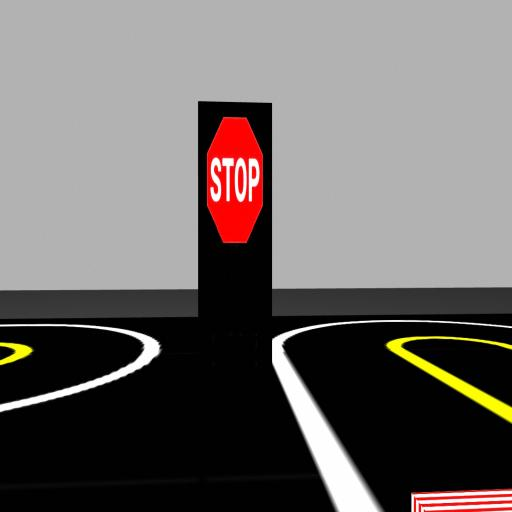Stop Sign: (207, 117, 262, 243)
